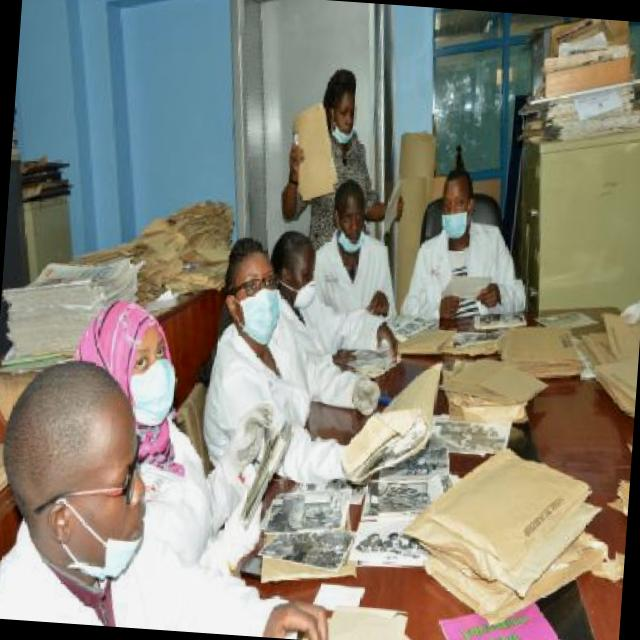Person: (0, 42, 419, 640), (0, 355, 339, 640), (78, 303, 284, 581), (216, 238, 390, 480), (278, 65, 408, 258), (412, 156, 527, 338), (264, 238, 402, 374), (310, 185, 408, 322)
